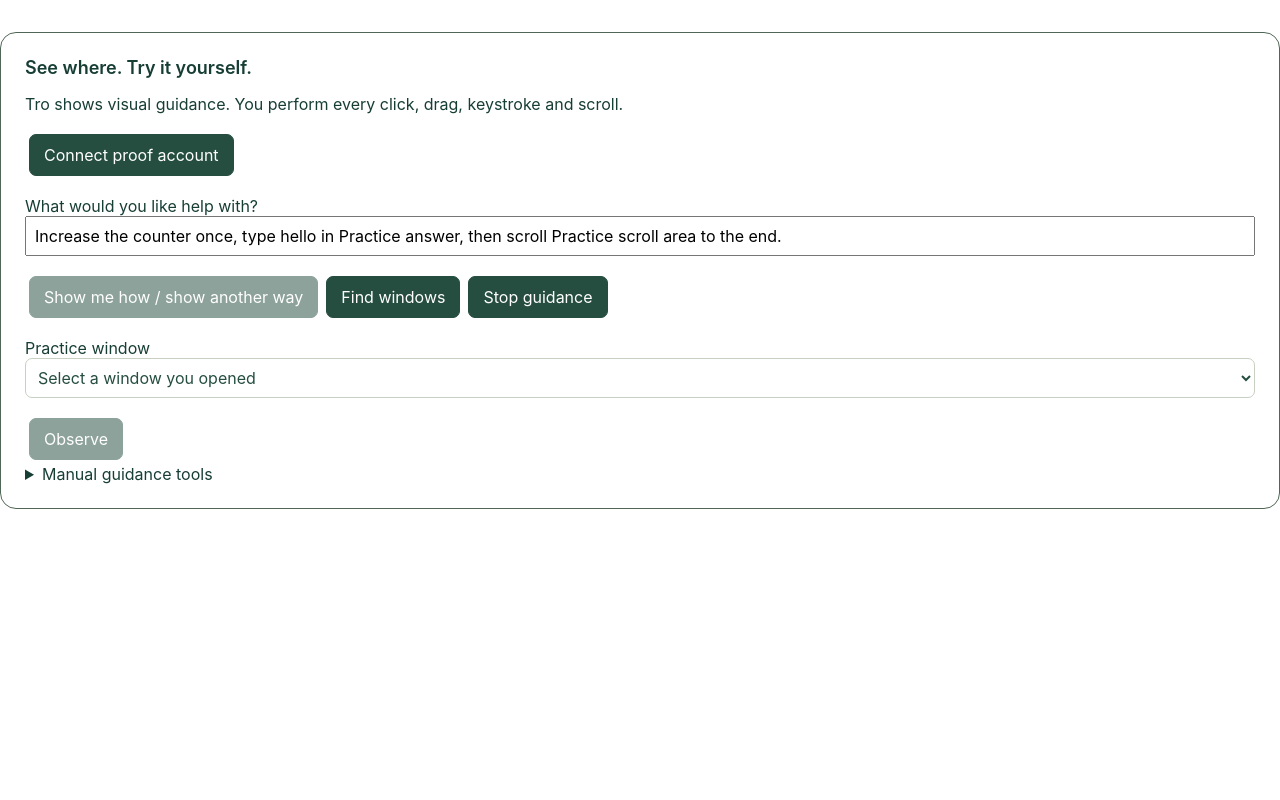
Test case: shows bounded recovery guidance from runtime readiness
Check: the field showing "Increase the counter once" is shown, box 25,216 -> 1255,256
Click the button "Find windows": (393, 297) 326,276 -> 460,318
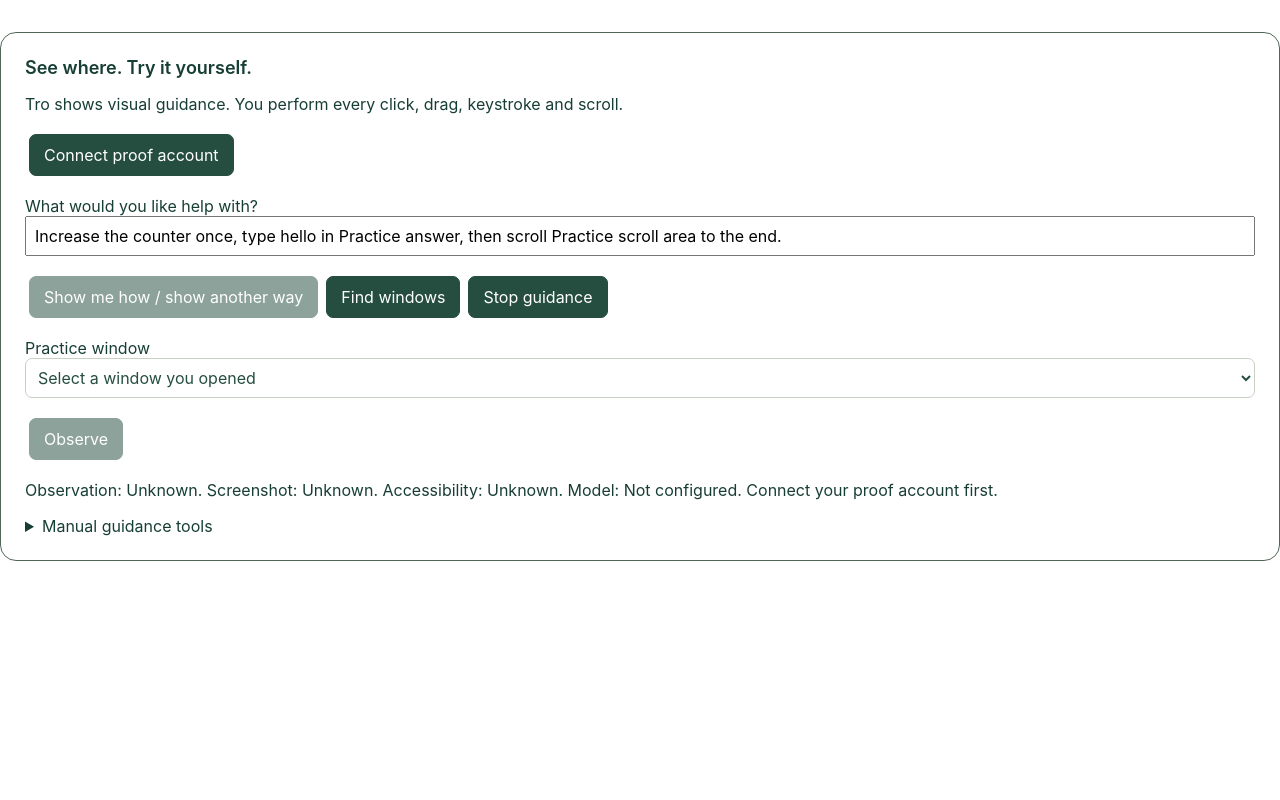
Check: the text "Connect your proof account first" is shown, box 742,480 -> 998,500
